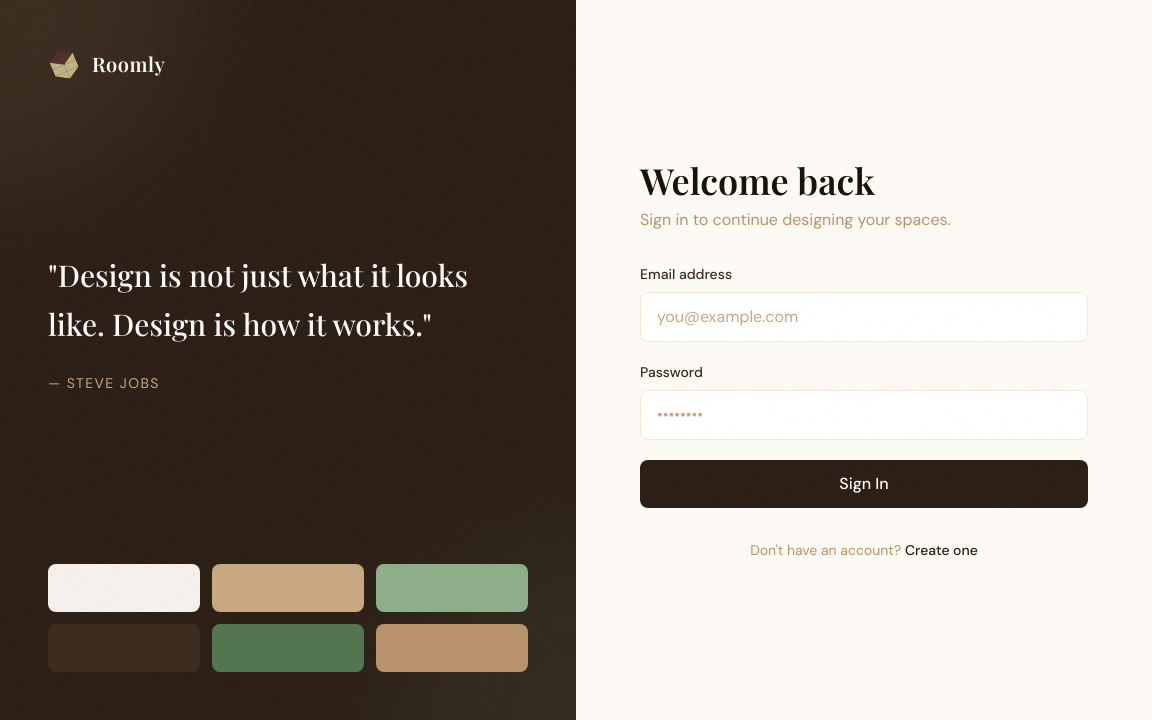
Test: User Story: Account Security › should prevent access and show error for unauthorised users (invalid credentials)
The image size is (1152, 720).
// Fill in credentials
Type "wrong@user.com" into the field with placeholder "you@example.com".
click(864, 317); type("wrong@user.com")  # box [640,292,1088,342]
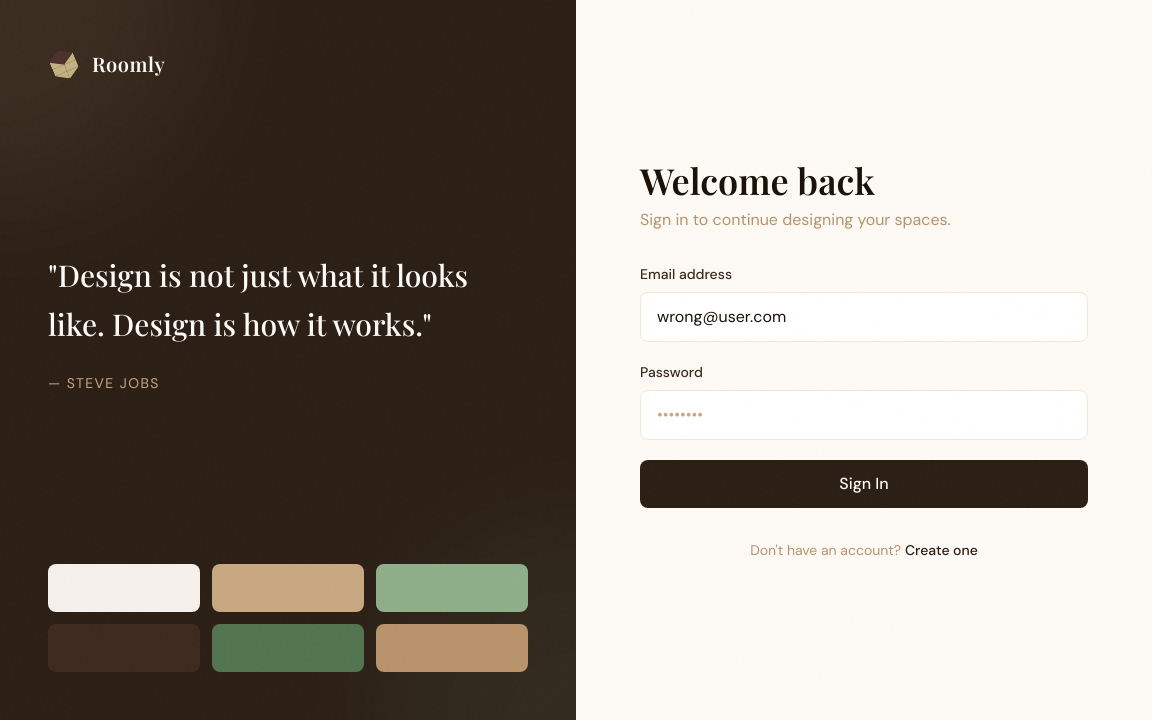
Type "wrongpassword" into the password field with placeholder "••••••••".
click(864, 415); type("wrongpassword")  # box [640,390,1088,440]
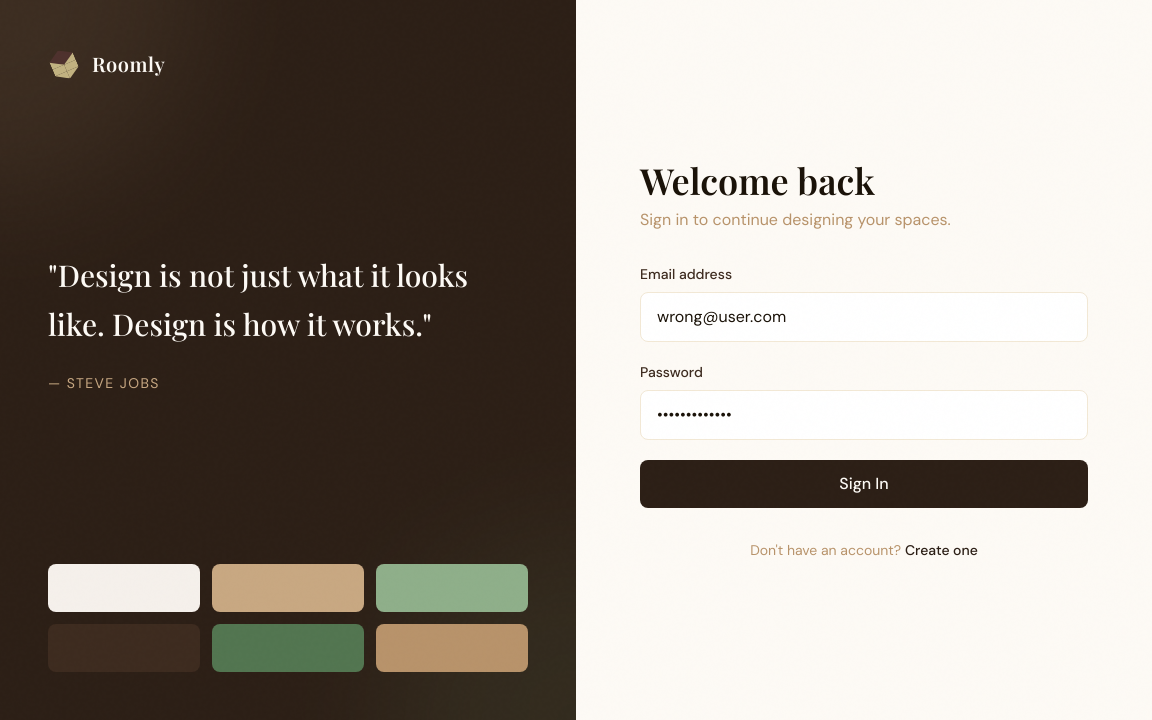
// Click login
Click the button "Sign In".
click(864, 484)  # box [640,460,1088,508]
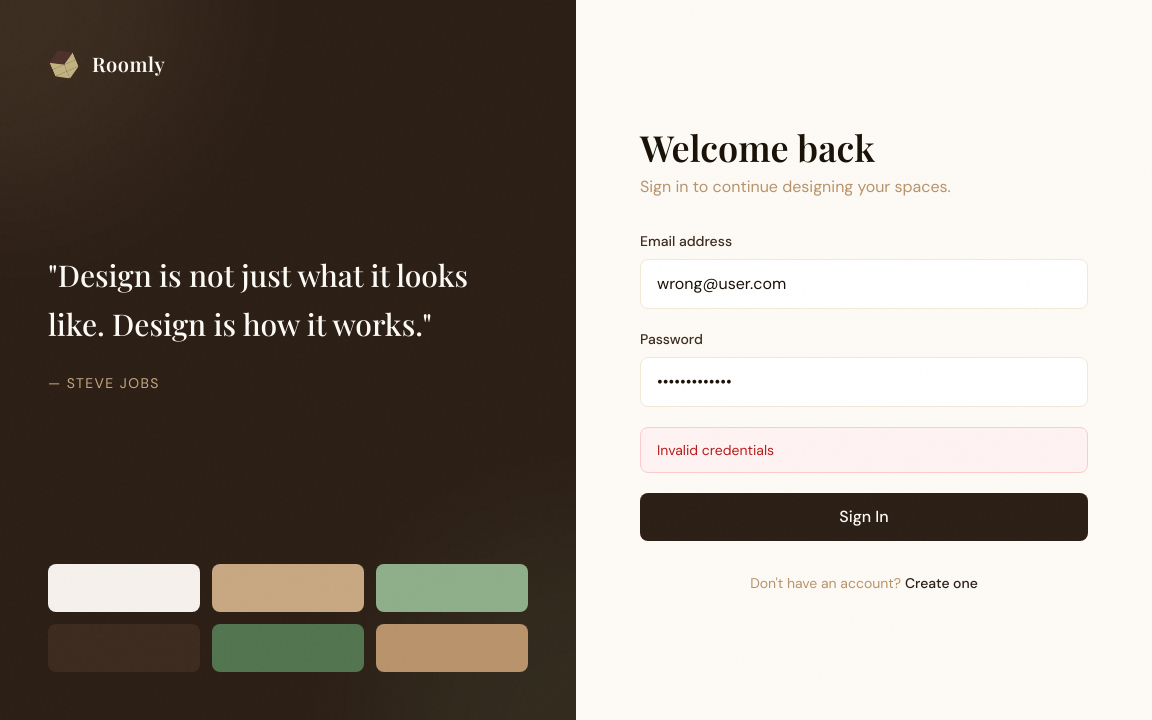
Now the text "Invalid credentials" is shown, box [640,427,1088,473]
